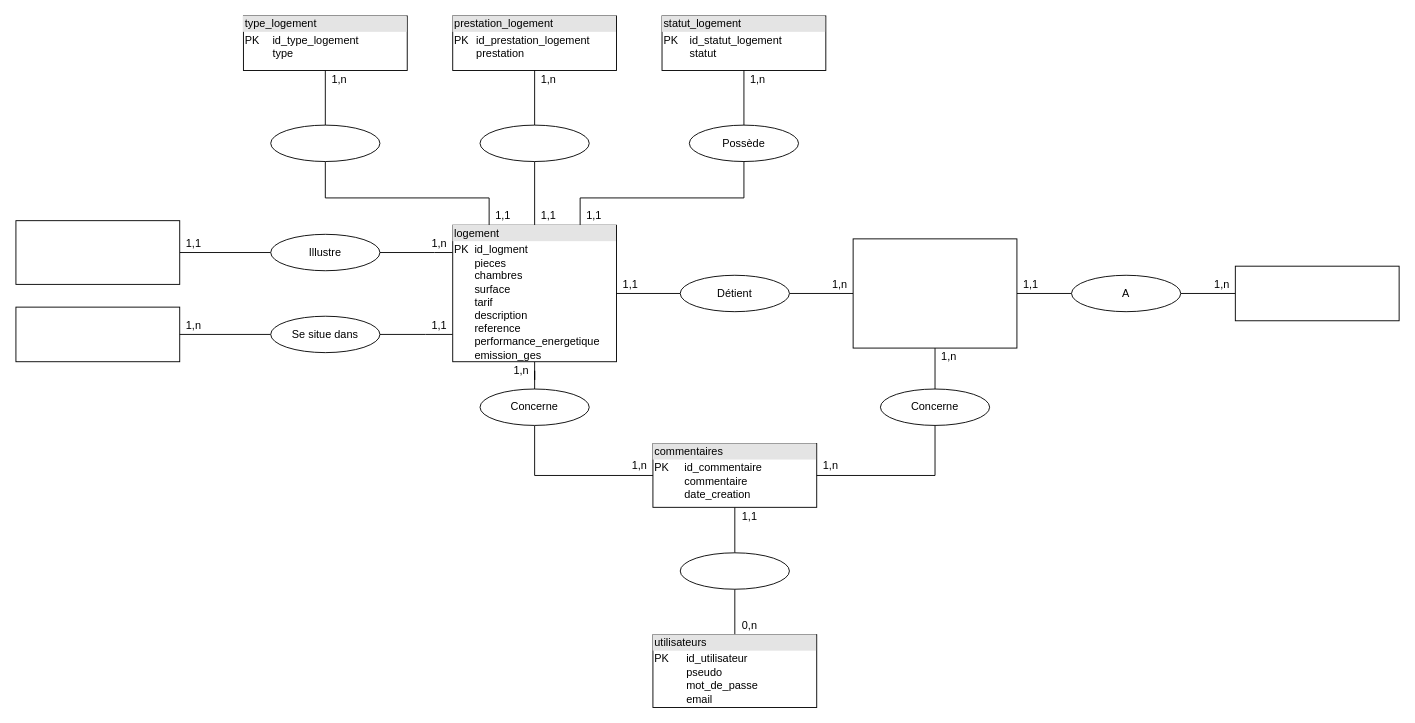
Some shapes in this 1415 by 723 pixel diagram are drawn without their labels. Here are the shapes that lost their labels. From the top down, the centre of each, then its label:
point (325, 143): Correspond
point (534, 143): Est
point (97, 252): photos PK id_photo path commentaire
point (934, 293): proprietaire PK id_proprietaire nom prenom genre tel email adresse
point (1316, 293): genre PK id_genre genre
point (97, 334): commune PK id_commune nom
point (734, 570): Ecrit
